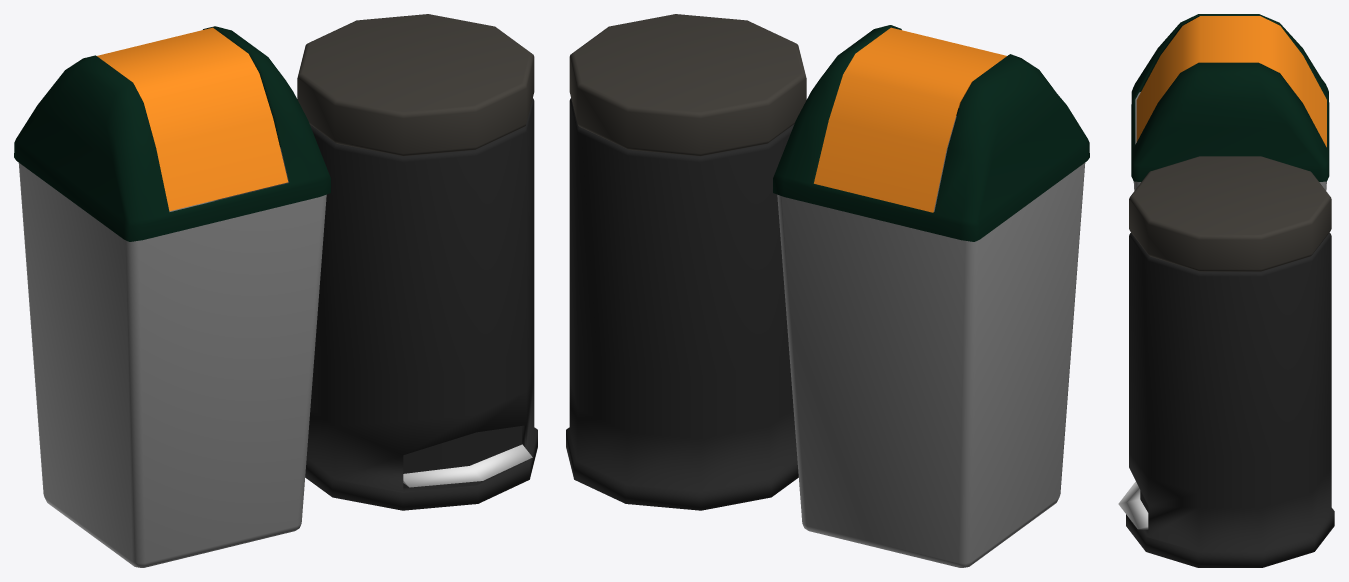
File: trashcan.fbx
3 views of the same model, side by side, from view 1: azimuth 30°, elevation 25°; view 2: azimuth 150°, elevation 25°; view 3: azimuth 270°, elevation 25° (orthographic). The views are drawn at different scales.
Visible parts, largest first — view 1: Trashcan_01_body, Trashcan_02_body, Trashcan_02_cover, Trashcan_01_cover, Trashcan_01_lid, Trashcan_02_pedal; view 2: Trashcan_01_body, Trashcan_02_body, Trashcan_02_cover, Trashcan_01_cover, Trashcan_01_lid; view 3: Trashcan_02_body, Trashcan_02_cover, Trashcan_01_cover, Trashcan_01_lid, Trashcan_02_pedal.
Part boxes in pixels (x1=…): Trashcan_01_body: x1=18, y1=147, x2=326, y2=567; Trashcan_02_body: x1=305, y1=98, x2=537, y2=510; Trashcan_02_cover: x1=297, y1=14, x2=534, y2=156; Trashcan_01_cover: x1=14, y1=26, x2=330, y2=241; Trashcan_01_lid: x1=97, y1=27, x2=288, y2=211; Trashcan_02_pedal: x1=403, y1=444, x2=532, y2=487; Trashcan_01_body: x1=777, y1=116, x2=1085, y2=567; Trashcan_02_body: x1=566, y1=98, x2=798, y2=510; Trashcan_02_cover: x1=569, y1=14, x2=806, y2=156; Trashcan_01_cover: x1=773, y1=25, x2=1089, y2=241; Trashcan_01_lid: x1=814, y1=27, x2=1006, y2=212; Trashcan_02_body: x1=1126, y1=232, x2=1334, y2=567; Trashcan_02_cover: x1=1129, y1=156, x2=1331, y2=271; Trashcan_01_cover: x1=1131, y1=14, x2=1329, y2=181; Trashcan_01_lid: x1=1136, y1=16, x2=1326, y2=147; Trashcan_02_pedal: x1=1118, y1=481, x2=1148, y2=529.
Bounding box in the file's own units: 53.45 × 52.88 × 26.71.
